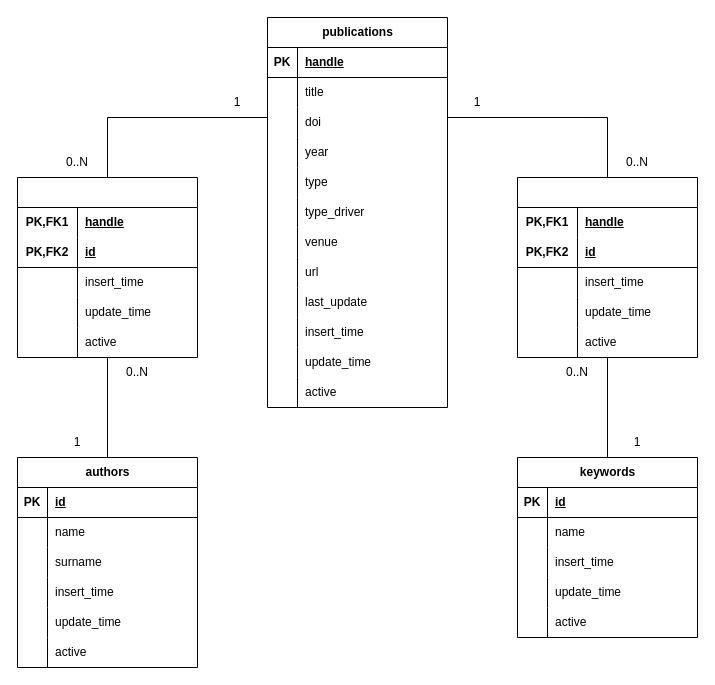
Image size: 715x685. Some labels were removed from this diagram. Here are the shapes that lost their labels. From the top down, the box of each, then its label:
(16, 176, 198, 358): publications_authors
(516, 176, 698, 358): publications_keywords
